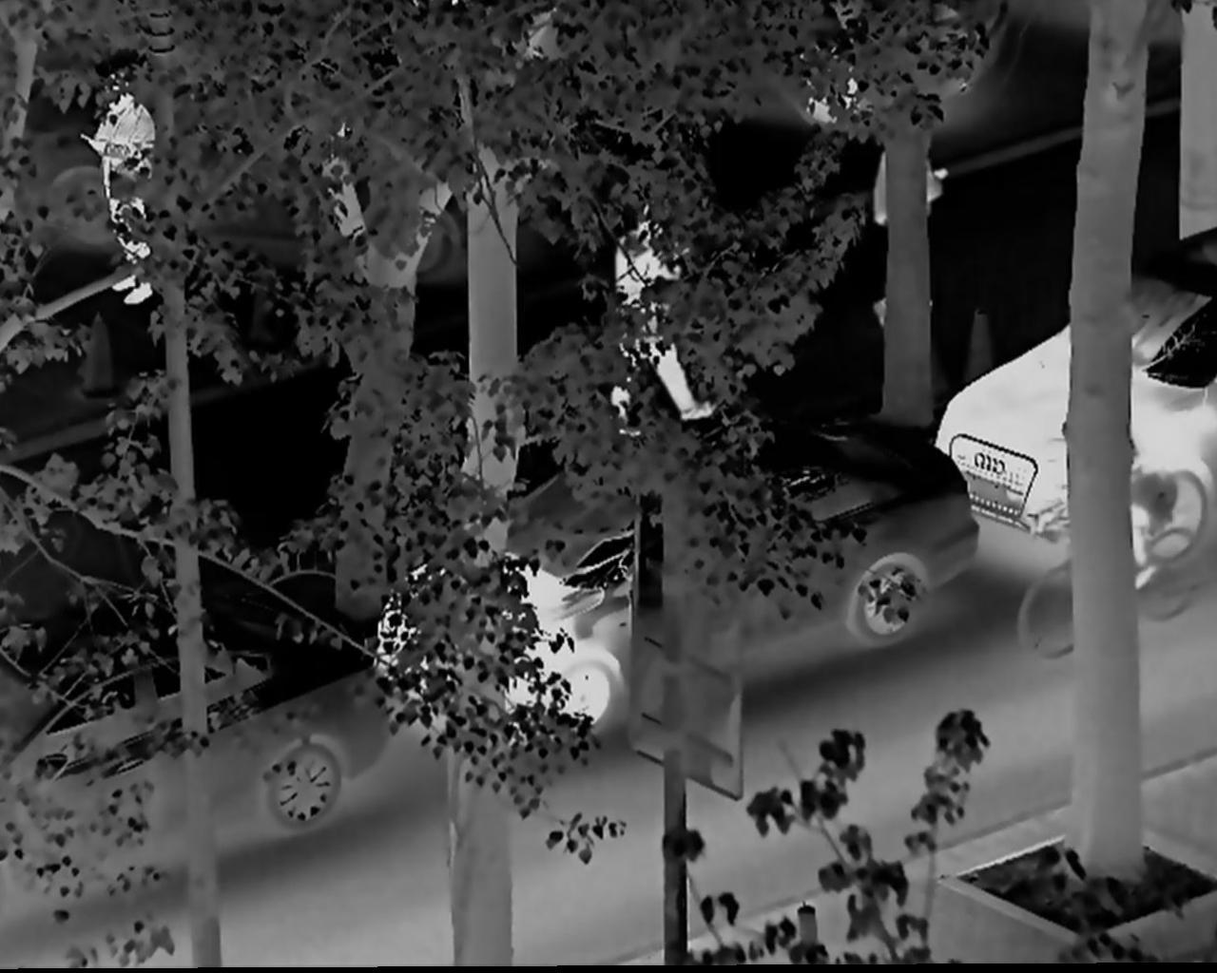person: (604, 200, 721, 430), (80, 86, 167, 312), (858, 138, 948, 330)
